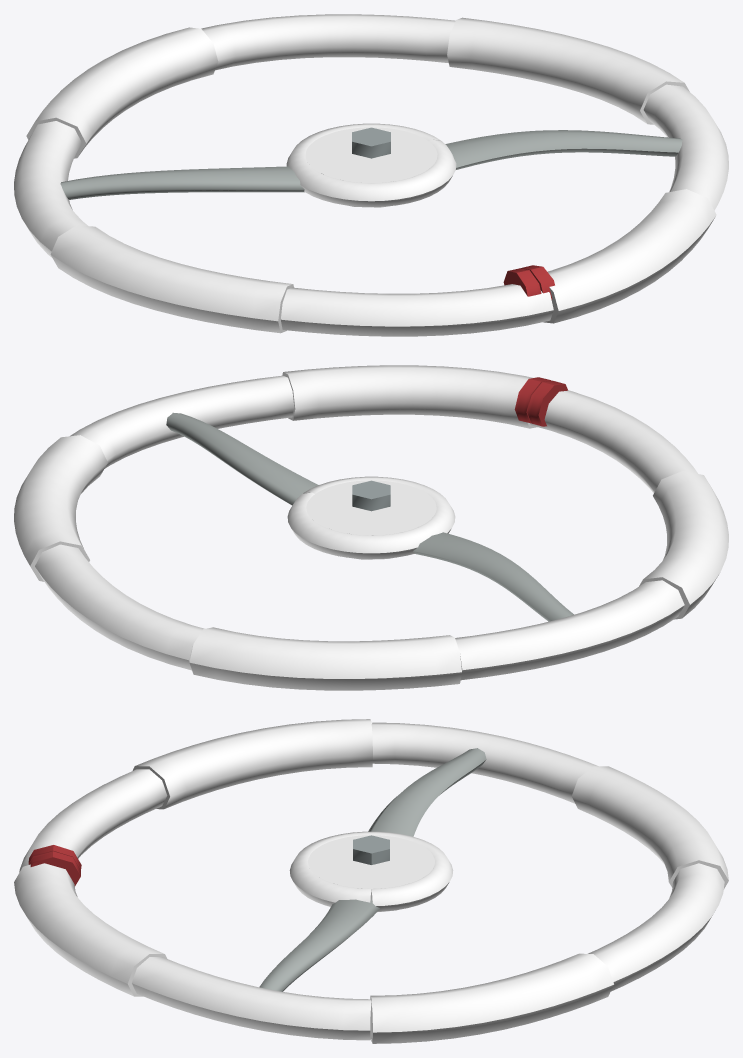
Rendered from Wheel_02_N_紺舷・二本線.glb.
The picture shows the model from 3 angles, top to bottom: view 1: azimuth 30°, elevation 25°; view 2: azimuth 150°, elevation 25°; view 3: azimuth 270°, elevation 25°; orthographic projection. The views are drawn at different scales.
Parts seen in each view (by area): view 1: Wheel_02_N; view 2: Wheel_02_N; view 3: Wheel_02_N.
Boxes of the visible parts, box(x1,y1,x2,y2) form: Wheel_02_N: box(14, 14, 728, 336); Wheel_02_N: box(14, 365, 728, 690); Wheel_02_N: box(14, 719, 728, 1043).
Bounding box in the file's own units: 0.3322 × 0.0299 × 0.3322.
4 materials, 4 textured.
